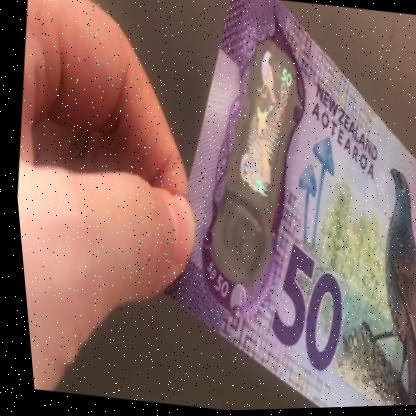50B: (196, 43, 312, 287)
